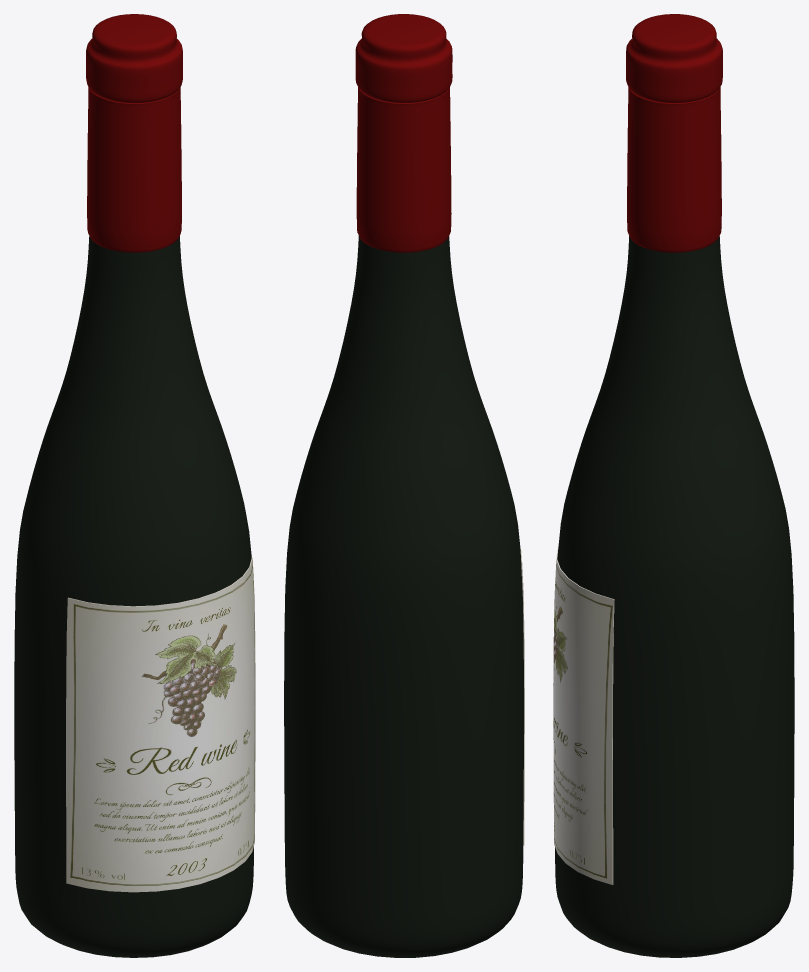
The model's file is wine.glb.
3 views of the same model, side by side, from view 1: azimuth 30°, elevation 25°; view 2: azimuth 150°, elevation 25°; view 3: azimuth 270°, elevation 25° (orthographic).
Visible parts, largest first — view 1: pasted__polySurface1_pasted__pasted__standardSurface3_0; view 2: pasted__polySurface1_pasted__pasted__standardSurface3_0; view 3: pasted__polySurface1_pasted__pasted__standardSurface3_0.
Boxes of the visible parts, x1,y1,x2,y2 form: pasted__polySurface1_pasted__pasted__standardSurface3_0: (14,14,255,957); pasted__polySurface1_pasted__pasted__standardSurface3_0: (284,14,524,957); pasted__polySurface1_pasted__pasted__standardSurface3_0: (553,14,794,957).
Bounding box in the file's own units: 0.0485 × 0.1994 × 0.0486.
Materials: 3 (1 with a texture image).
